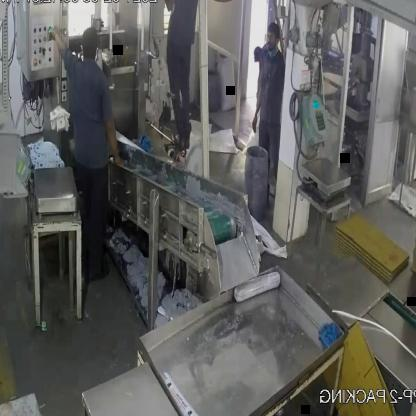no_glove: (97, 117, 126, 173), (47, 22, 71, 63), (152, 0, 171, 13)
